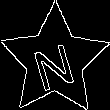N_N: (29, 31, 80, 90)
